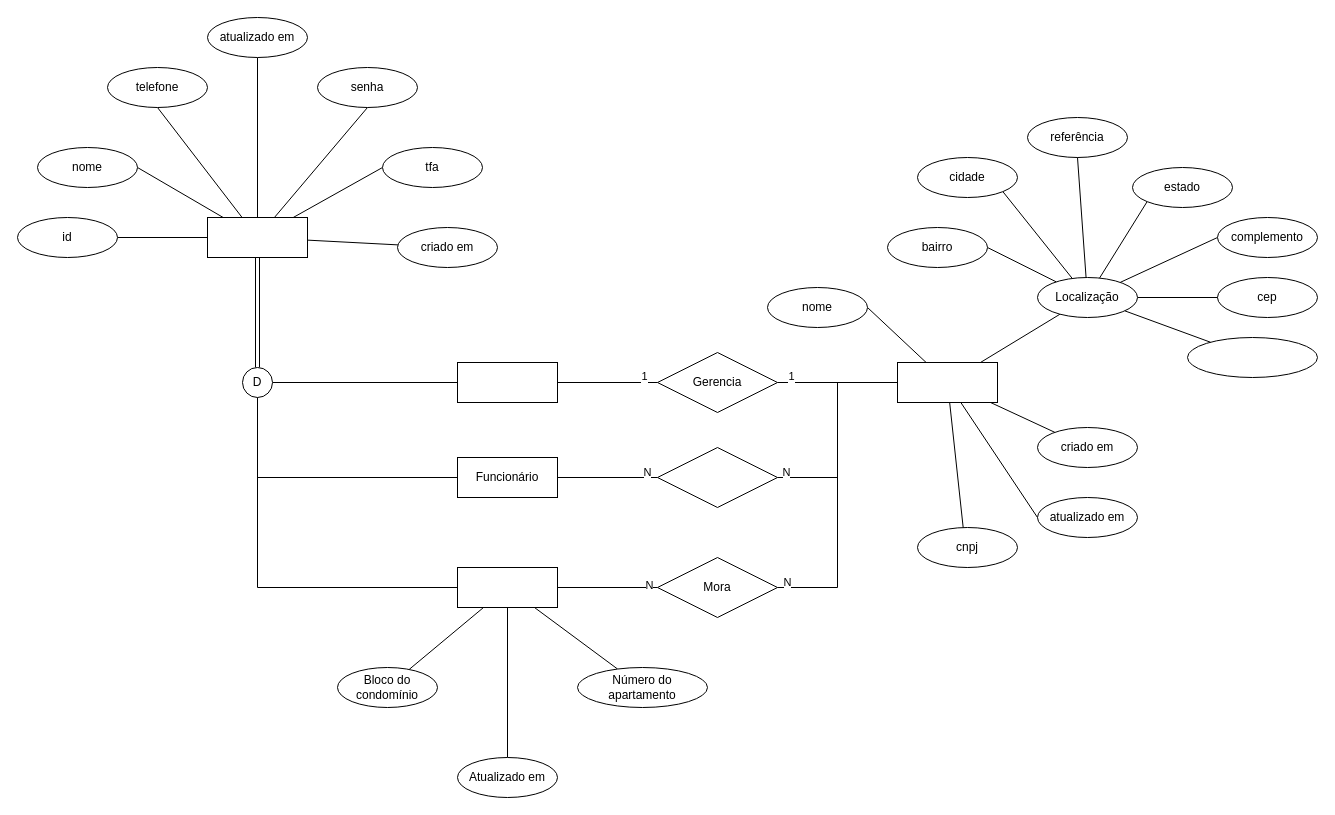
This 1335x815 diagram has some shape labels left out. The centre of each missing label's shape, as x and y in pixels:
Condomínio: point 947,382
Morador: point 507,587
número da rua: point 1252,357
Síndico: point 507,382
Trabalha: point 717,477
Usuários: point 257,237
